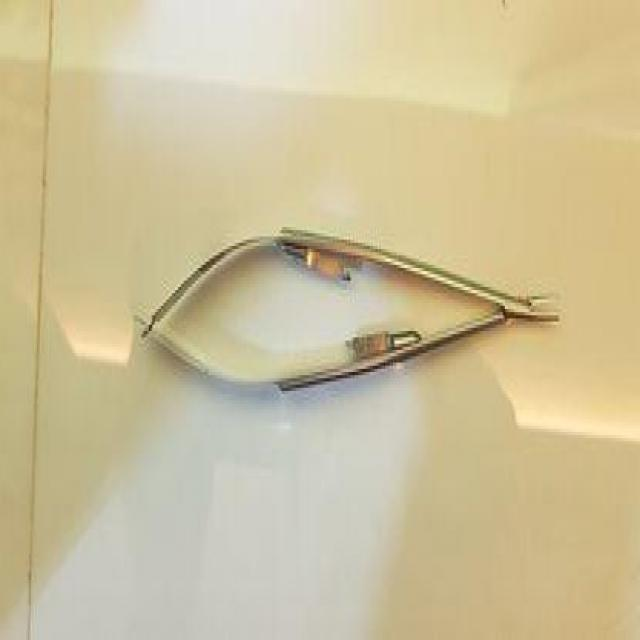Castroviejo: (124, 211, 562, 416)
